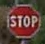stop: (6, 3, 41, 37)
